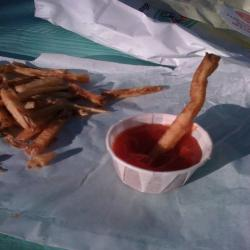fries: (1, 57, 107, 165), (151, 54, 223, 158)
ketchup: (110, 112, 211, 188)
